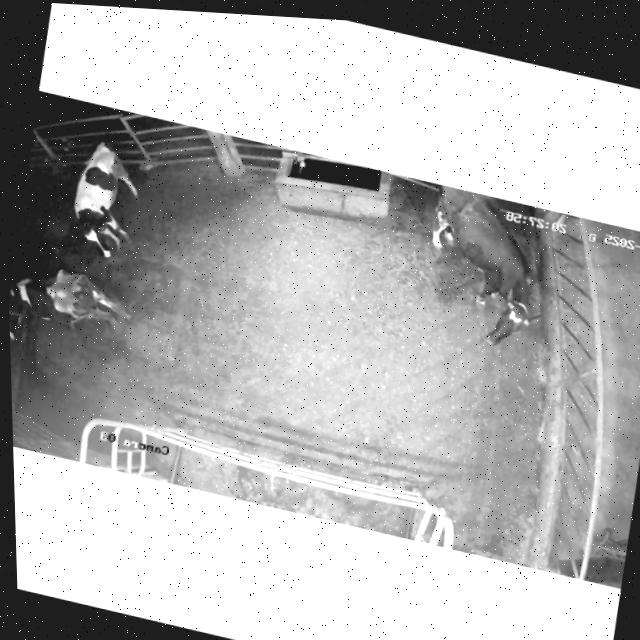stand: (408, 180, 558, 359), (7, 252, 142, 367), (56, 130, 156, 276)
